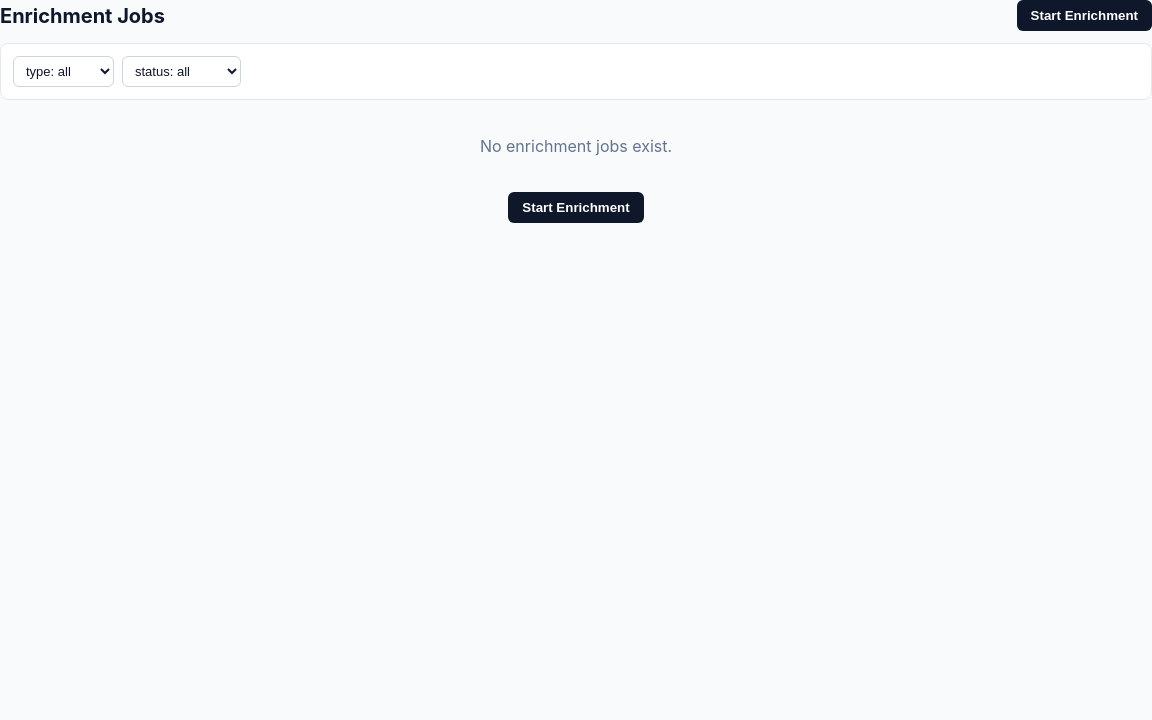
Test case: Enrichment Start › clique abre modal
Expected: the heading "Enrichment Jobs" is shown, top-left (0, 4), bottom-right (165, 28)
Click the 1st button "Start Enrichment": (1084, 16) top-left (1017, 0), bottom-right (1151, 31)
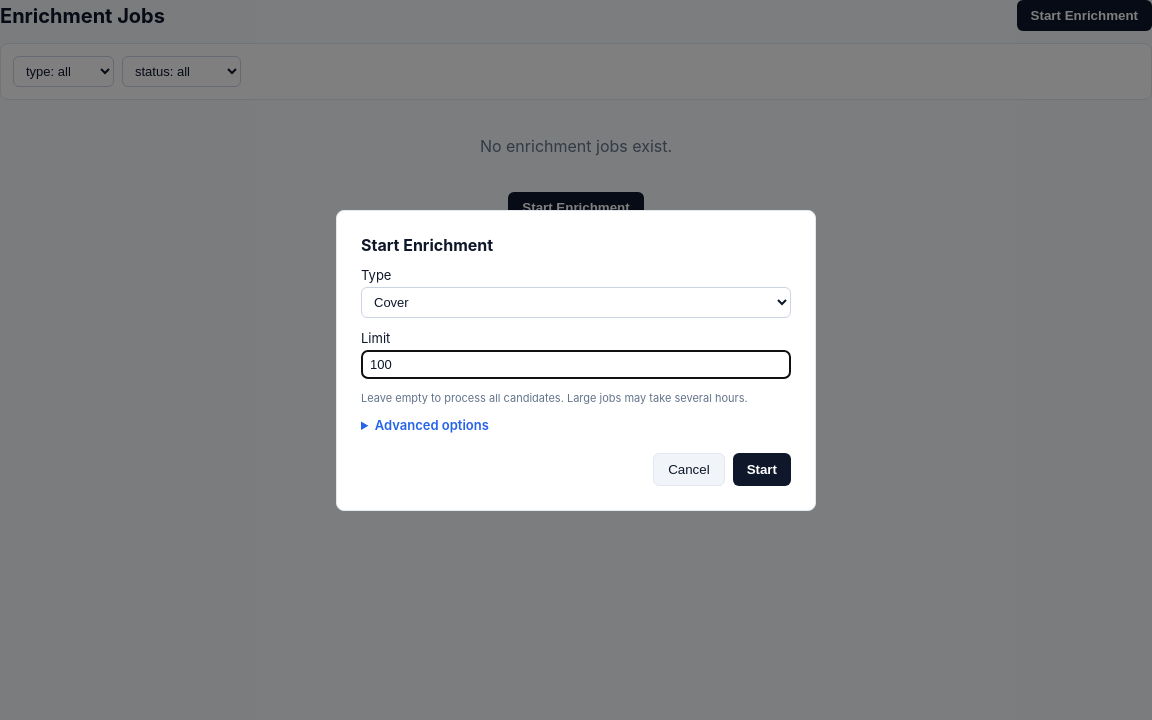
Now the heading "Start Enrichment" is shown, box top-left (361, 234), bottom-right (493, 254)
Now the dropdown labelled "Type" shows "Cover", box top-left (361, 286), bottom-right (791, 318)
